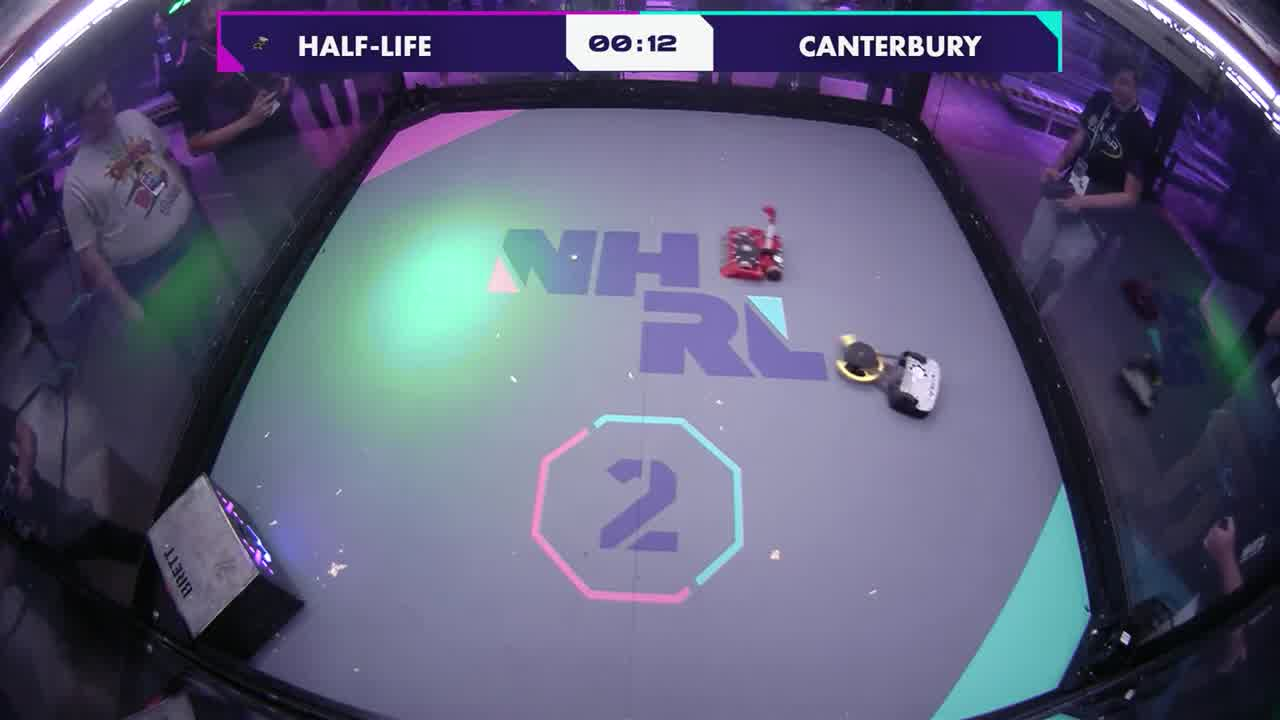combatbot: (832, 335, 944, 418), (720, 203, 789, 284)
housebot: (145, 476, 305, 657)
